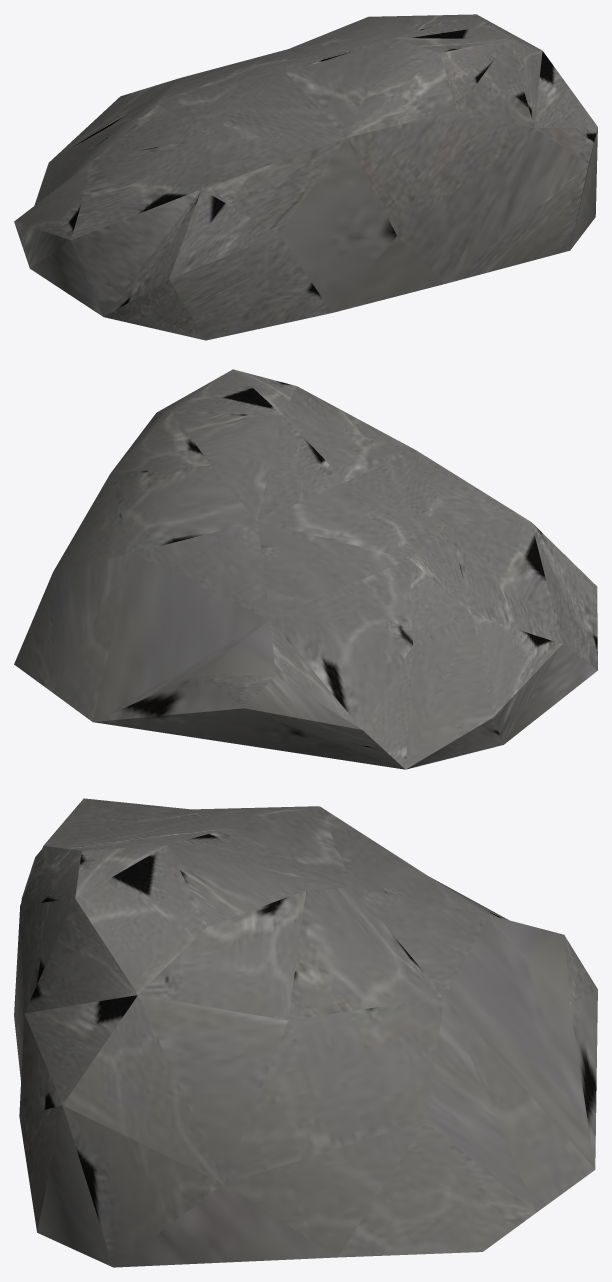
Rendered from co_angular_silicate_lod2.glb.
3 views of the same model, one above another, from view 1: azimuth 30°, elevation 25°; view 2: azimuth 150°, elevation 25°; view 3: azimuth 270°, elevation 25° (orthographic). The views are drawn at different scales.
Parts seen in each view (by area): view 1: output_unwrapped; view 2: output_unwrapped; view 3: output_unwrapped.
Boxes of the visible parts, x1,y1,x2,y2 form: output_unwrapped: (14, 14, 597, 340); output_unwrapped: (14, 369, 597, 769); output_unwrapped: (14, 798, 597, 1267).
Bounding box in the file's own units: 1.8 × 0.7518 × 1.31.
1 material, 1 textured.
